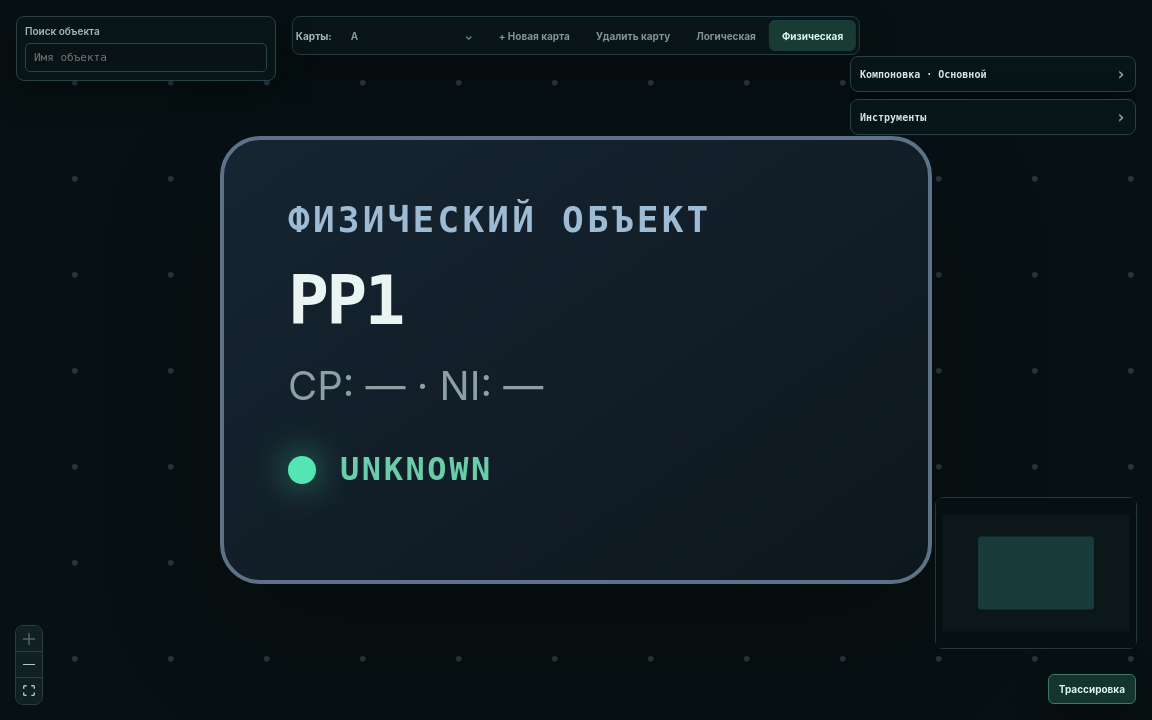
Test: MapPage SavedMap scope › keeps the copy dialog available after a rejected write without exposing diagnostics
The width and height of the screenshot is (1152, 720).
expect the text "PP1" is shown: met, box [288, 260, 403, 340]
Click the button "Компоновка · Основной ›". click: click(923, 74)
box: [851, 57, 1135, 91]
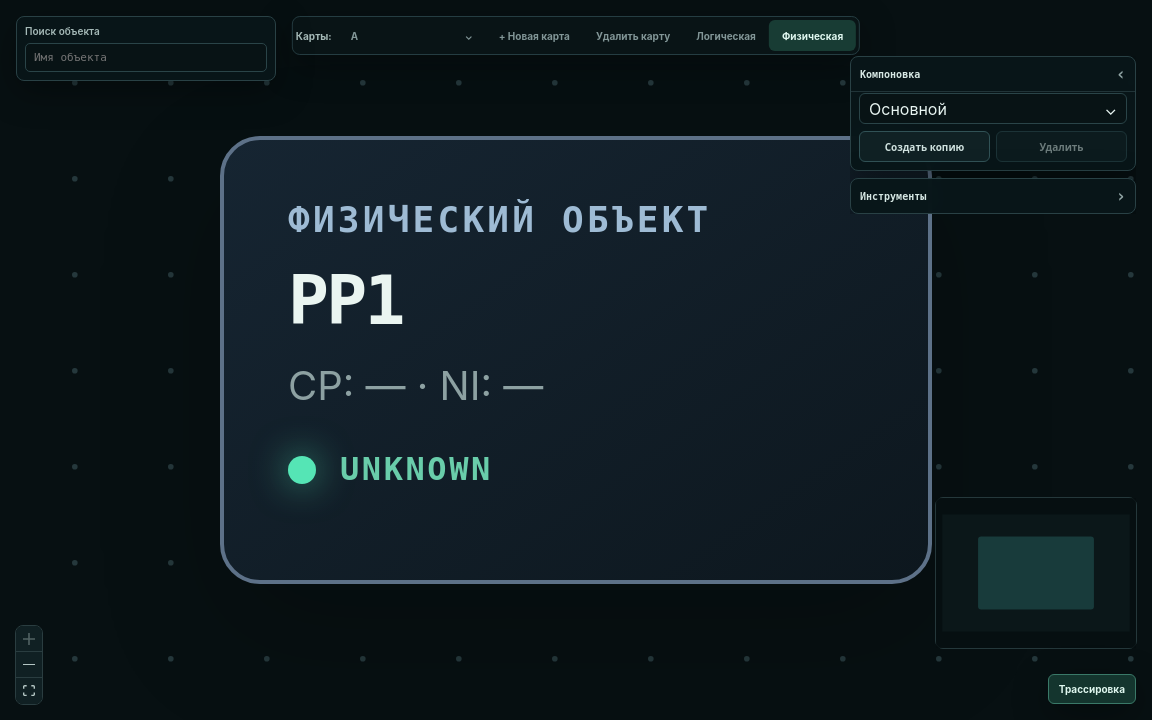
Click the button "Создать копию". click: click(924, 146)
box: [859, 131, 990, 162]
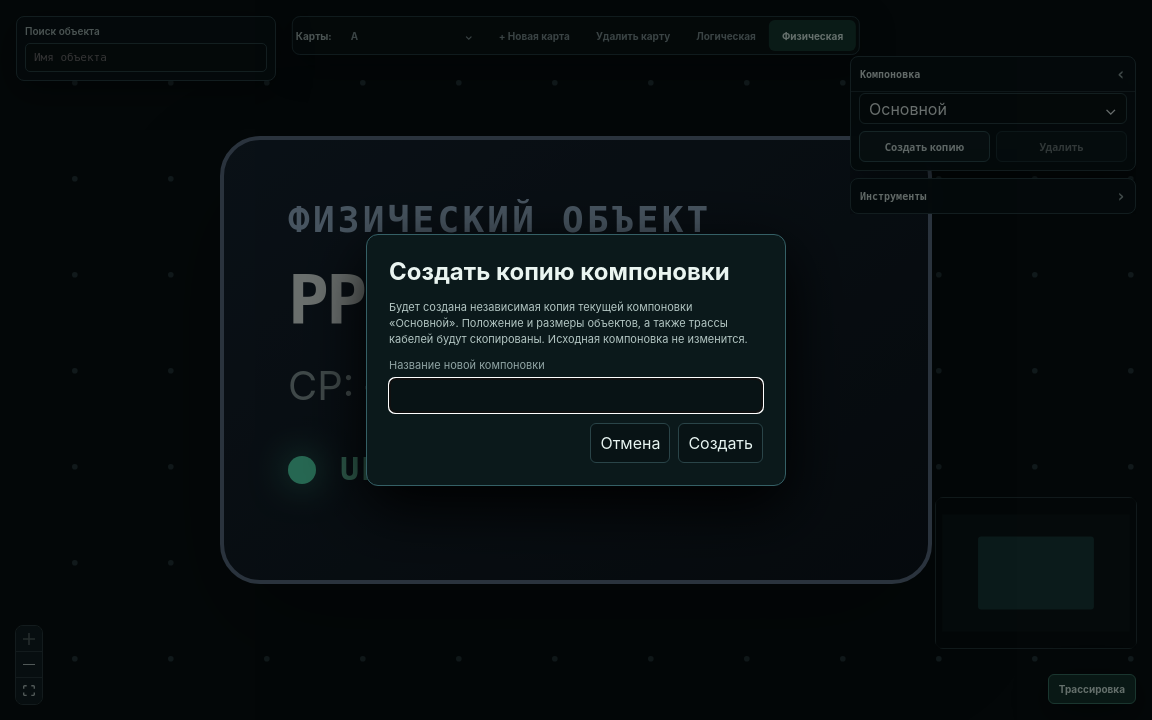
Type "Копия" into the field labelled "Название новой компоновки". click: (576, 395)
box: [389, 378, 763, 413]
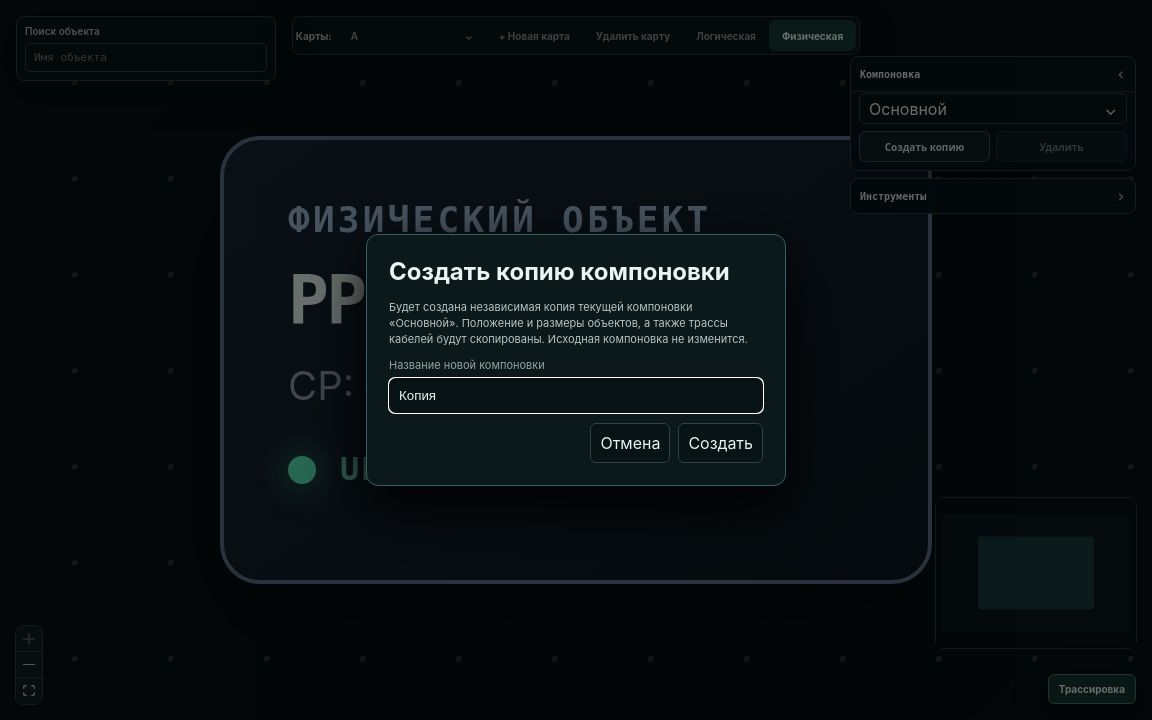
Click the button "Создать". click: click(721, 443)
box: [678, 423, 763, 463]
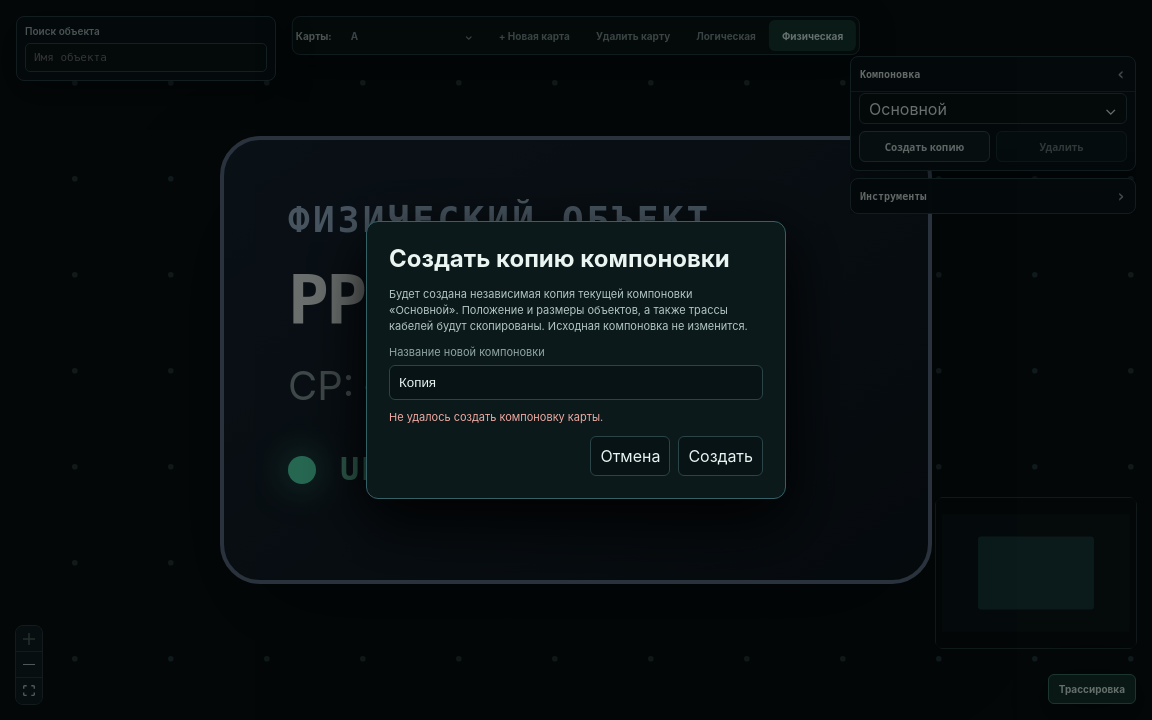
expect the message reads "Не удалось создать компоновку карты.": met, box [389, 410, 603, 424]
